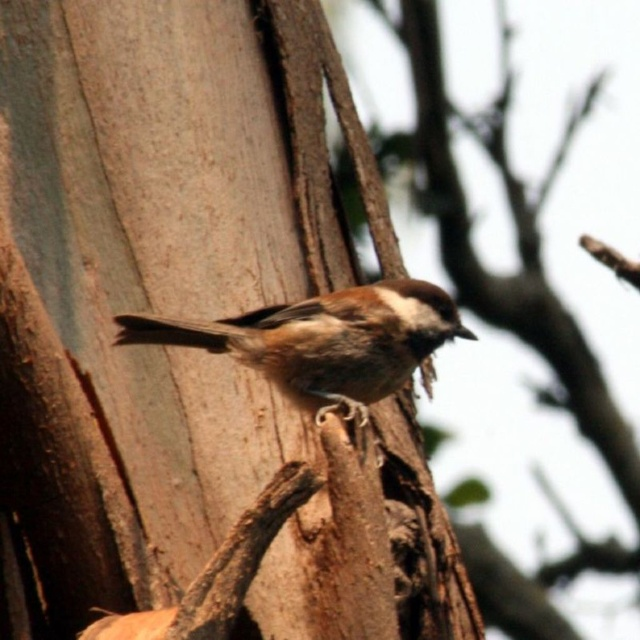Sparrow: (110, 275, 481, 424)
